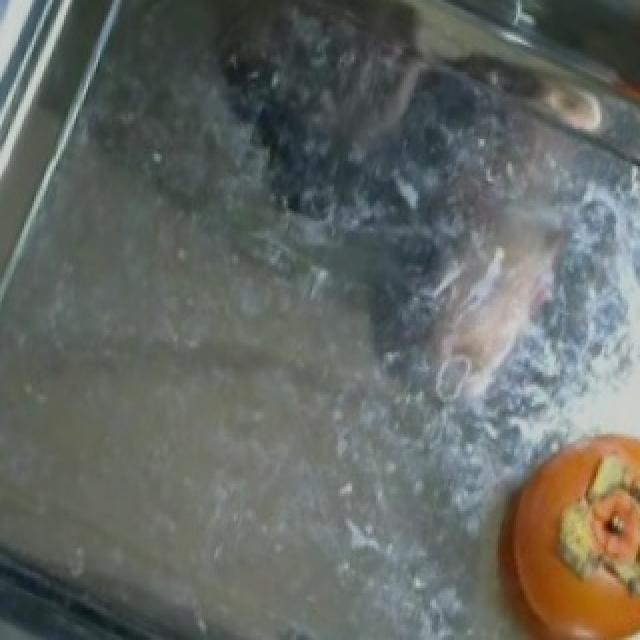Fruit: (470, 412, 640, 640)
